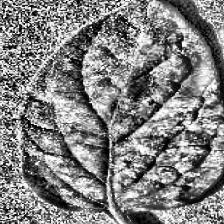spider mites: (21, 0, 224, 215)
